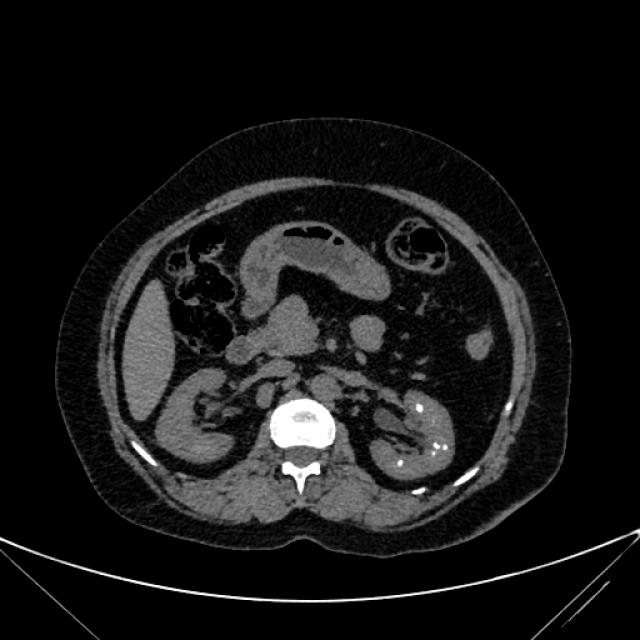kidney: (156, 366, 242, 464), (370, 391, 460, 479)
stone: (414, 401, 425, 412), (431, 440, 441, 451), (442, 442, 451, 451), (396, 458, 404, 466), (428, 448, 436, 455)
